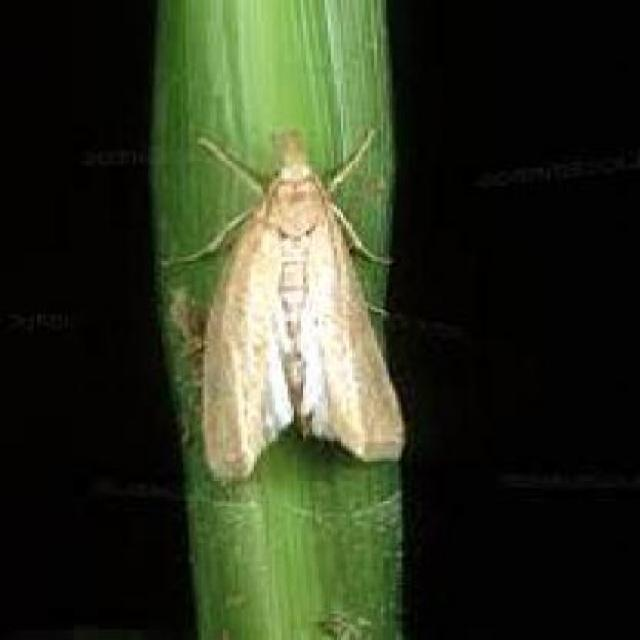stem-borer: (182, 135, 383, 477)
